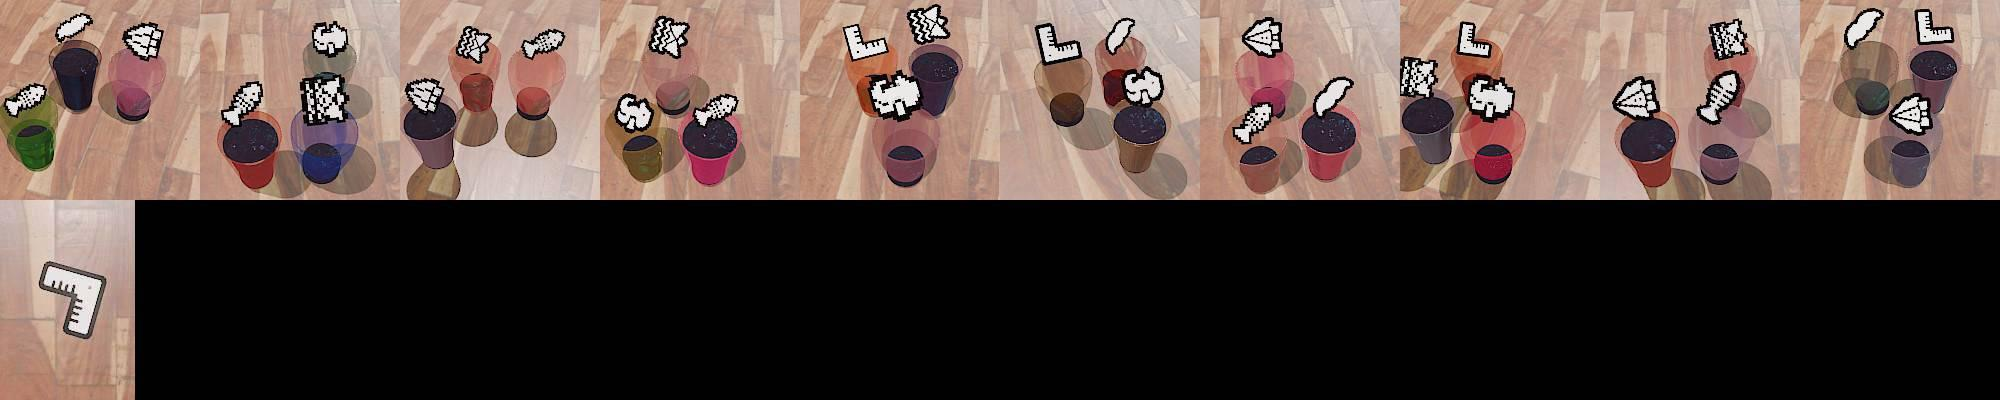icon: (37, 258, 110, 342), (297, 72, 353, 127), (866, 70, 924, 120), (1462, 73, 1517, 122), (1696, 69, 1741, 125), (219, 79, 265, 128), (1035, 20, 1082, 66), (1613, 75, 1661, 120), (842, 22, 890, 64), (648, 14, 691, 60), (1234, 99, 1276, 144), (1312, 74, 1354, 118), (906, 4, 951, 45), (690, 92, 739, 128), (1889, 94, 1933, 134), (1707, 18, 1748, 60), (1243, 16, 1285, 57), (1844, 8, 1885, 49), (1399, 57, 1439, 99), (2, 81, 48, 117), (614, 92, 655, 132), (1122, 66, 1164, 105), (405, 76, 447, 115), (1913, 9, 1956, 47), (123, 21, 164, 60), (520, 27, 567, 60), (1456, 20, 1493, 59), (455, 25, 492, 64), (310, 20, 349, 57), (1104, 17, 1137, 56), (54, 12, 94, 44)
